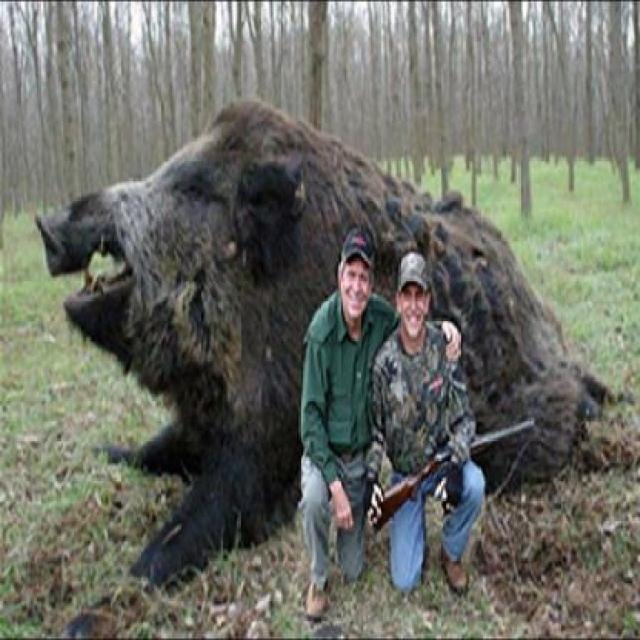wildboar: (35, 87, 612, 598)
